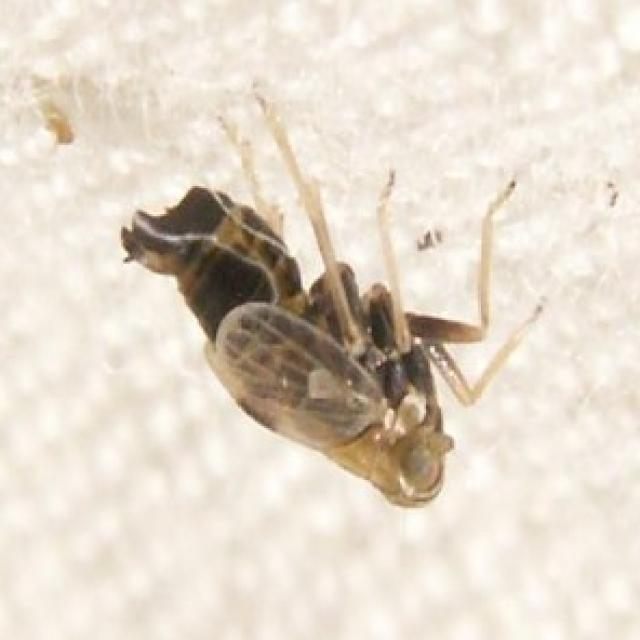brown plant hopper: (121, 115, 517, 508)
